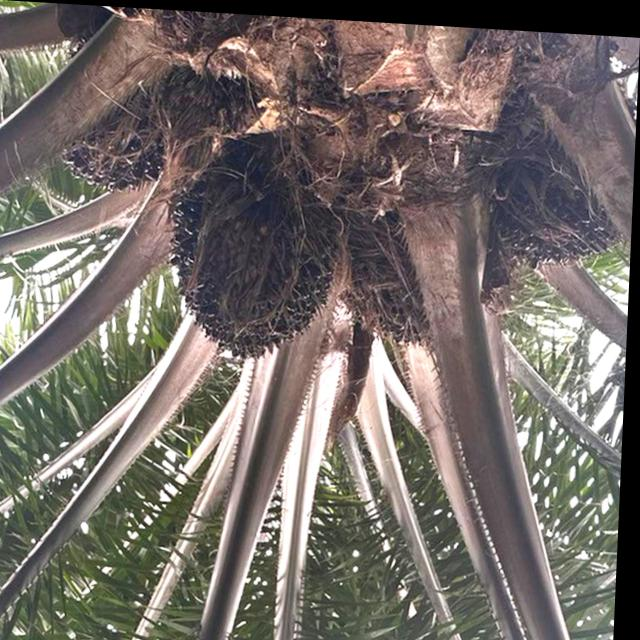unripe: (163, 142, 352, 369)
